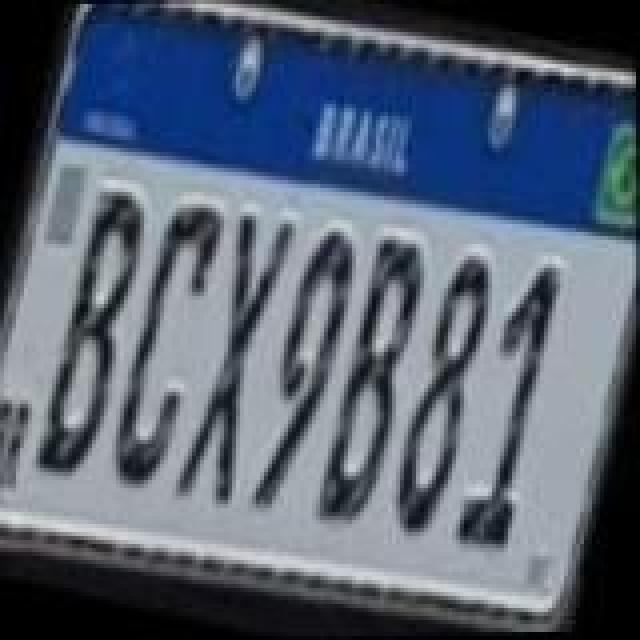1: (446, 256, 578, 564)
8: (384, 244, 512, 548)
9: (242, 224, 370, 524)
B: (26, 178, 162, 486), (310, 232, 442, 540)
C: (100, 196, 232, 496)
X: (168, 208, 300, 512)
